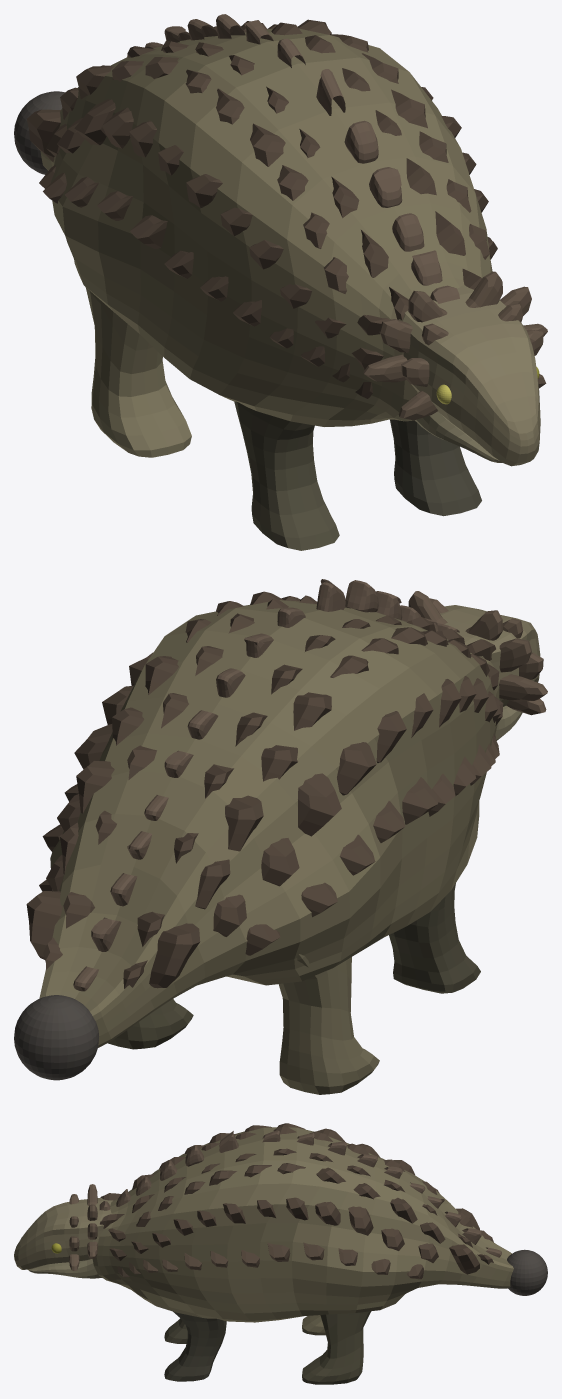
Rendered from anquilo.fbx.
The picture shows the model from 3 angles, top to bottom: view 1: azimuth 30°, elevation 25°; view 2: azimuth 150°, elevation 25°; view 3: azimuth 270°, elevation 25°; orthographic projection. The views are drawn at different scales.
Visible parts, largest first — view 1: Cuerpo, placas de hueso cuerpo, Cabeza, pata TRASERA 1.001, pata.001, PLACAS HUESO espalda, Cubo, pata.002, cola, Cabeza2; view 2: Cuerpo, placas de hueso cuerpo, pata TRASERA 1.001, PLACAS HUESO espalda, cola, pata.001, Cubo, pata TRASERA 1, Cabeza; view 3: Cuerpo, placas de hueso cuerpo, Cabeza, pata TRASERA 1, PLACAS HUESO espalda, pata.002, cola, Cubo, Cabeza2, pata.001, pata TRASERA 1.001.
Boxes of the visible parts, x1,y1,x2,y2 form: Cuerpo: (40, 28, 492, 426); placas de hueso cuerpo: (26, 19, 497, 398); Cabeza: (398, 285, 540, 466); pata TRASERA 1.001: (66, 238, 191, 457); pata.001: (234, 401, 339, 550); PLACAS HUESO espalda: (127, 14, 459, 303); Cubo: (363, 271, 547, 420); pata.002: (390, 419, 481, 516); cola: (14, 91, 64, 174); Cabeza2: (415, 411, 502, 462); Cuerpo: (39, 600, 499, 1047); placas de hueso cuerpo: (26, 591, 503, 988); pata TRASERA 1.001: (278, 954, 379, 1094); PLACAS HUESO espalda: (73, 579, 459, 991); cola: (14, 995, 99, 1080); pata.001: (389, 883, 480, 993); Cubo: (408, 591, 547, 715); pata TRASERA 1: (108, 999, 193, 1049); Cabeza: (440, 605, 540, 706); Cuerpo: (92, 1127, 513, 1322); placas de hueso cuerpo: (100, 1123, 493, 1279); Cabeza: (14, 1198, 113, 1269); pata TRASERA 1: (302, 1311, 370, 1384); PLACAS HUESO espalda: (99, 1130, 501, 1257); pata.002: (164, 1311, 226, 1381); cola: (507, 1249, 547, 1295); Cubo: (69, 1184, 97, 1270); Cabeza2: (28, 1259, 101, 1278); pata.001: (164, 1318, 187, 1343); pata TRASERA 1.001: (302, 1315, 325, 1335).
Size of the model in its own units: 165 by 216 by 462.
